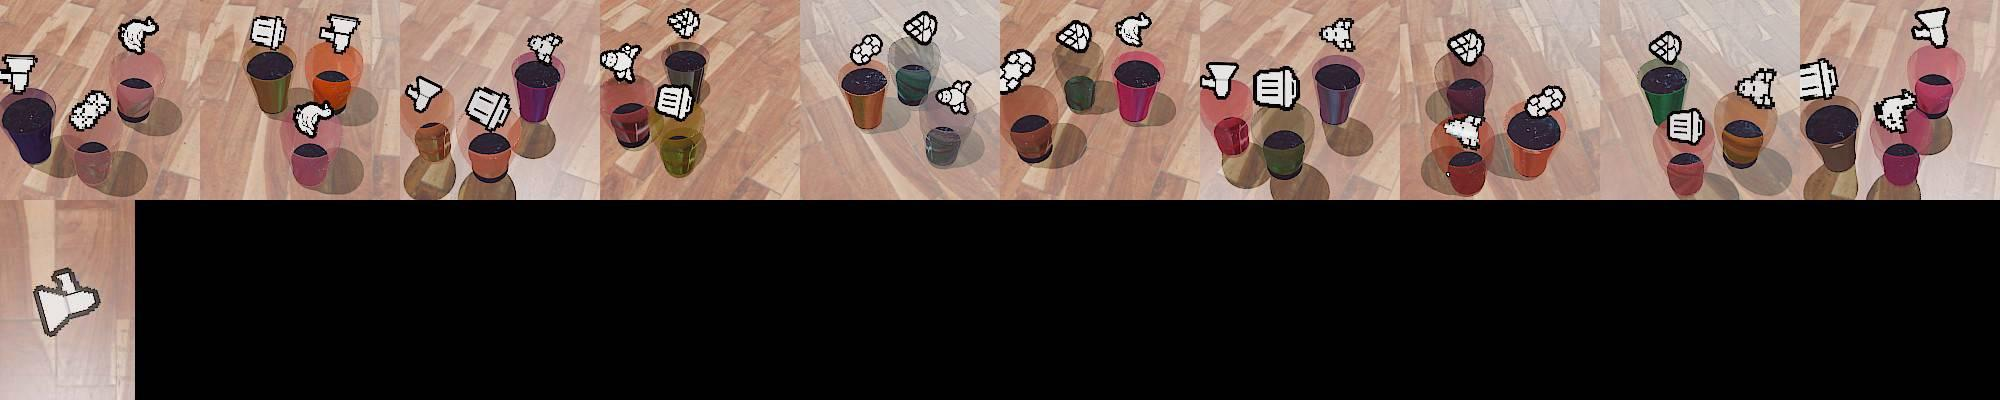icon: (32, 264, 101, 335), (462, 85, 512, 131), (1252, 66, 1298, 111), (1734, 66, 1778, 111), (1874, 88, 1917, 134), (68, 89, 112, 133), (1797, 56, 1839, 102), (292, 98, 339, 137), (600, 42, 643, 84), (654, 82, 698, 123), (1911, 7, 1951, 49), (321, 13, 361, 55), (118, 16, 159, 56), (999, 49, 1035, 93), (405, 74, 444, 114), (1667, 106, 1706, 145), (0, 53, 38, 93), (934, 77, 975, 114), (249, 14, 288, 52), (1443, 113, 1485, 148), (1524, 83, 1566, 118), (1201, 61, 1239, 99), (1447, 28, 1485, 65), (1318, 17, 1357, 53), (902, 10, 938, 47), (1114, 13, 1151, 49), (1056, 19, 1092, 53), (1648, 30, 1682, 65), (849, 33, 883, 67), (665, 8, 702, 39), (526, 33, 564, 63)
